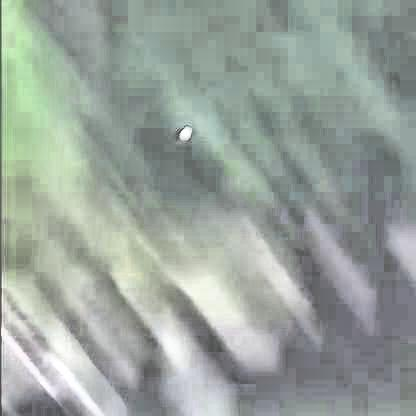golfball: (177, 124, 188, 137)
